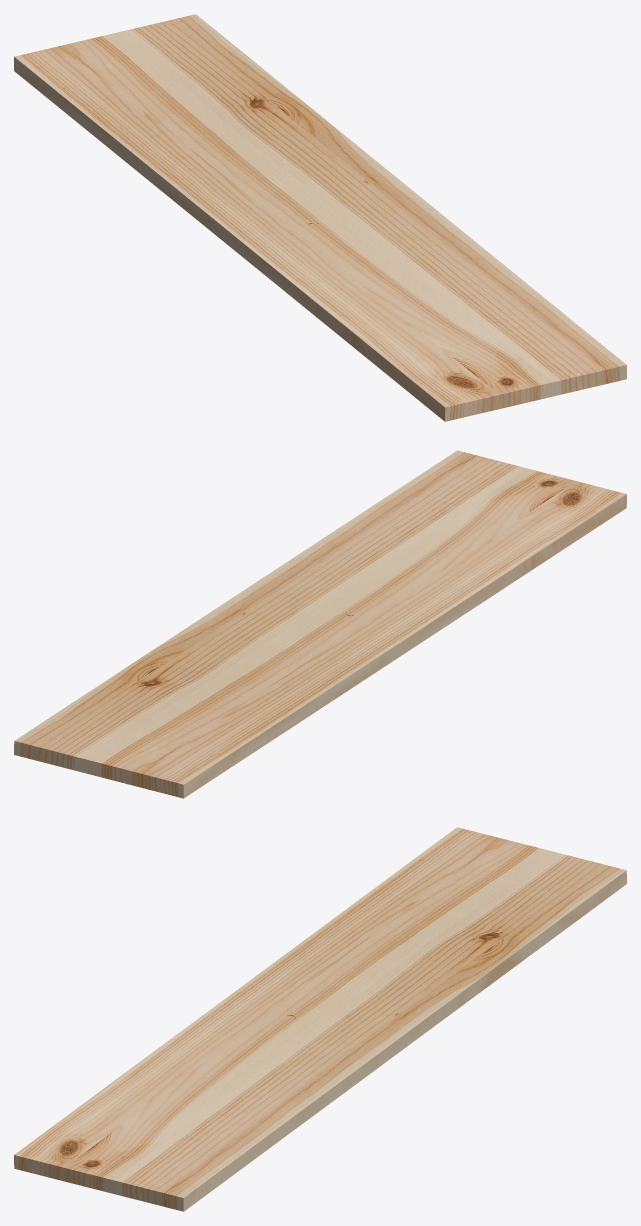
The model's file is plank.fbx.
3 renders of one model, top to bottom at view 1: azimuth 30°, elevation 25°; view 2: azimuth 150°, elevation 25°; view 3: azimuth 330°, elevation 25°, orthographic. The views are drawn at different scales.
Parts seen in each view (by area): view 1: plank; view 2: plank; view 3: plank.
Boxes of the visible parts, left/top/right/bottom form: plank: left=14, top=14, right=626, bottom=421; plank: left=14, top=450, right=626, bottom=798; plank: left=14, top=827, right=626, bottom=1211.
Bounding box in the file's own units: 18.84 × 3.15 × 74.9.
1 material, 1 textured.
